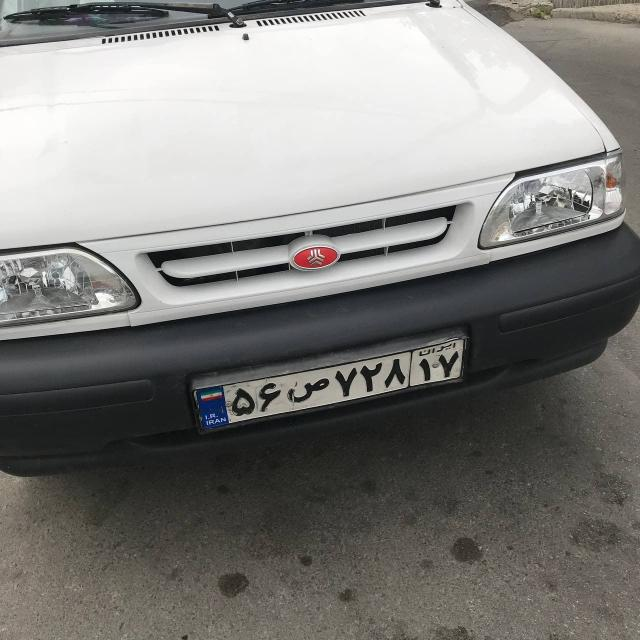Plates: (194, 335, 472, 430)
